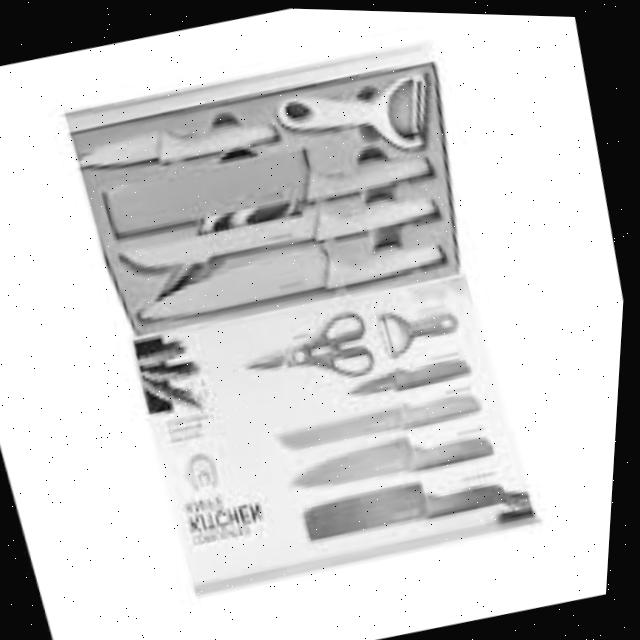knife: (102, 114, 436, 249), (135, 213, 450, 330), (118, 175, 441, 284), (303, 455, 514, 547), (288, 410, 502, 500), (74, 96, 284, 184), (276, 380, 487, 457), (347, 344, 478, 399)
